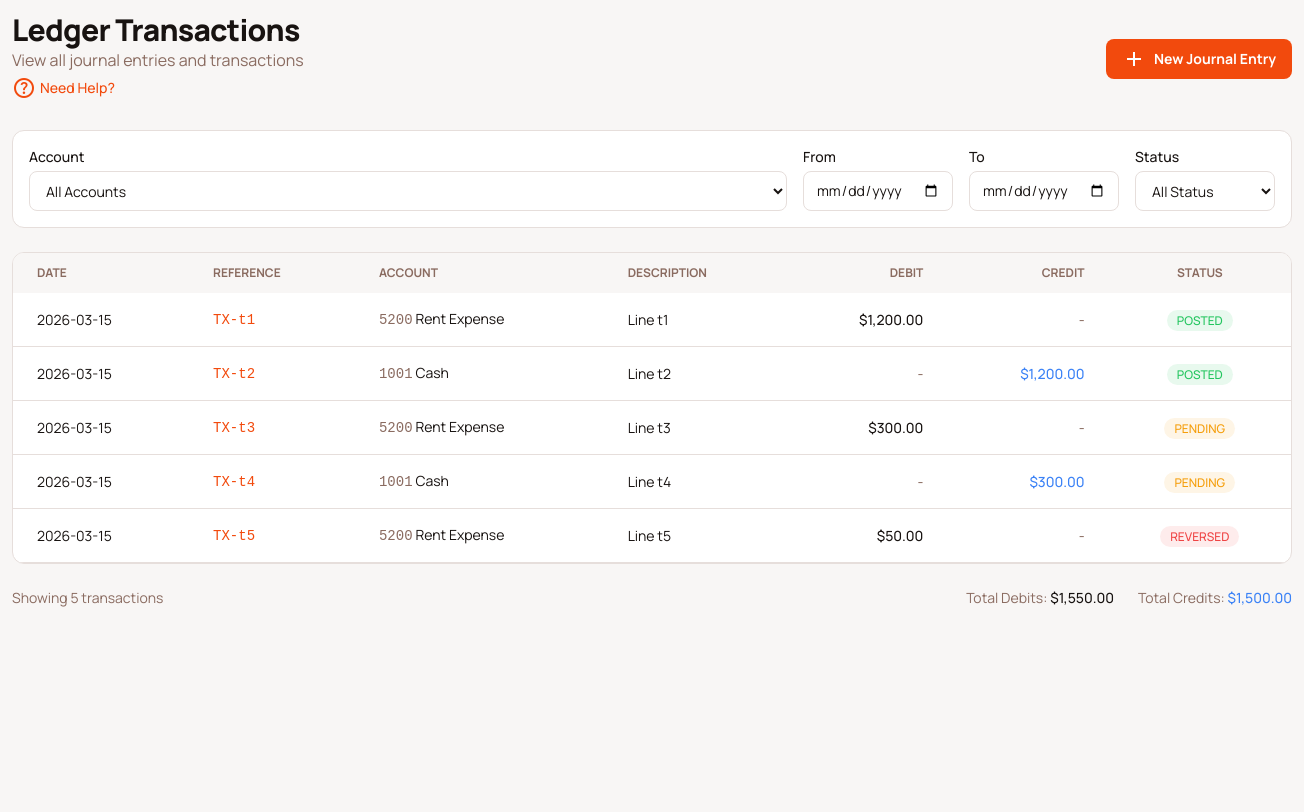
Scenario: LedgerTransactionsPage filters › filters by status in the page, never sends it to the server, and totals only what is shown
Expected: the table with test id "ledger-table" is shown, [13,253,1291,563]
Select "Pending" in the dropdown with test id "status-filter" at (1205, 191), box [1135,171,1275,211]
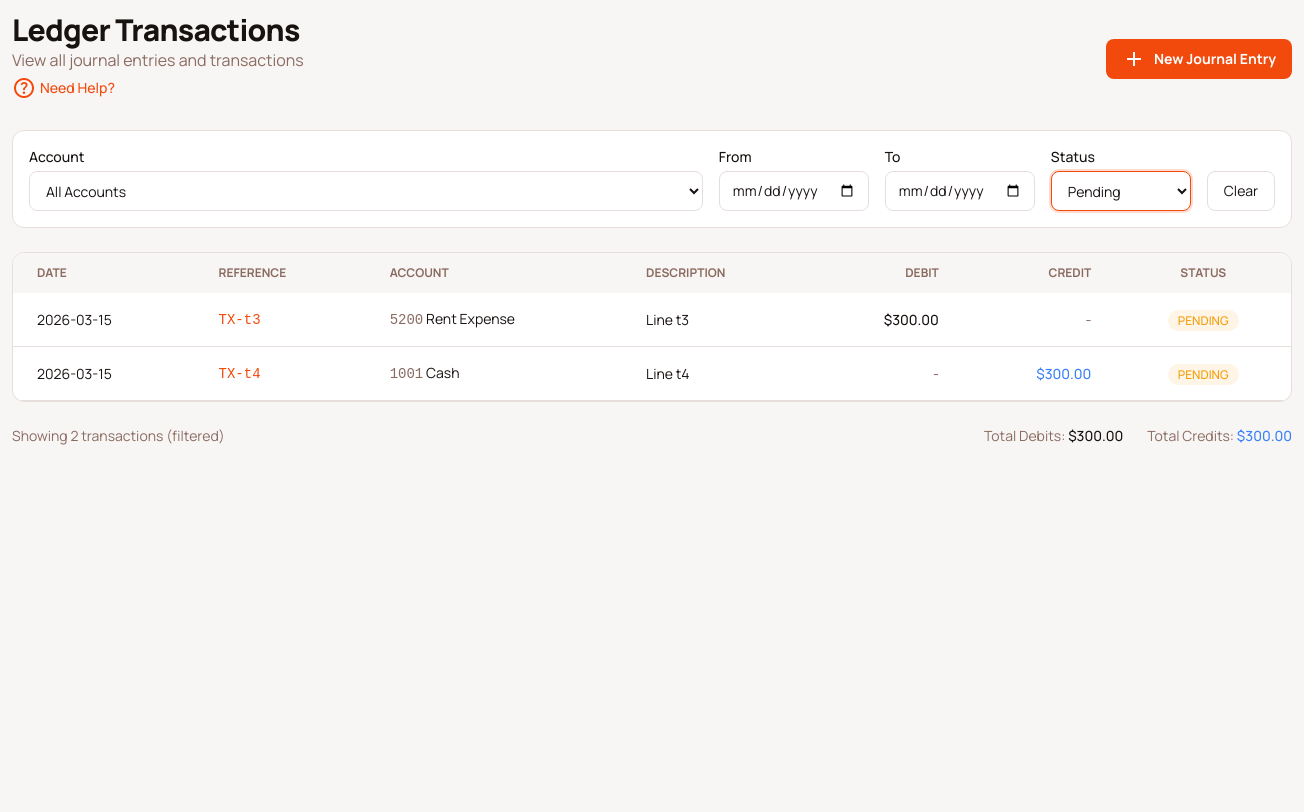
Now the row with test id "ledger-row-t5" is gone
Now the element with test id "ledger-summary" shows "Showing 2 transactions (filtered)", box [12,426,1292,446]
Now the element with test id "ledger-summary" reads "Showing 2 transactions (filtered) Total Debits: $300.00 Total Credits: $300.00", box [12,426,1292,446]
